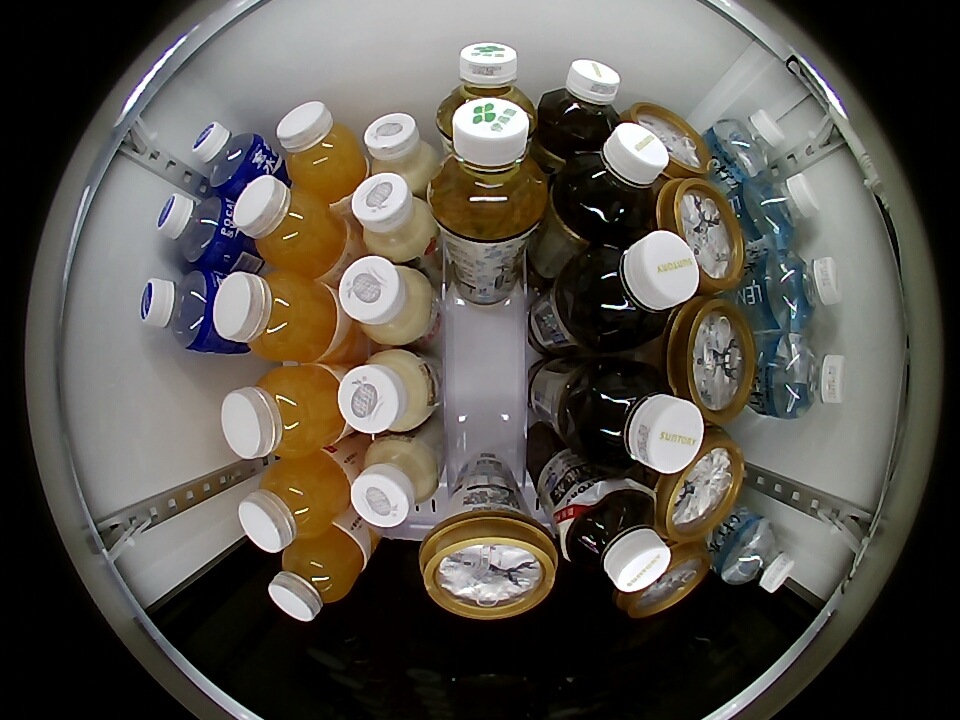baicha: (429, 99, 547, 241), (435, 42, 535, 136)
baokuangli: (140, 269, 222, 352), (156, 192, 236, 267), (193, 122, 271, 195)
lujiaoxiang: (420, 506, 558, 619), (663, 297, 758, 421), (656, 177, 749, 294), (654, 429, 747, 540), (619, 541, 711, 618), (626, 104, 709, 180)
qinningshui: (764, 333, 849, 419), (762, 250, 842, 330), (719, 517, 795, 593), (742, 173, 820, 246), (711, 109, 786, 179)
weic: (221, 364, 344, 459), (213, 270, 340, 362), (233, 175, 348, 276), (238, 453, 351, 553), (268, 526, 366, 622), (275, 102, 368, 199)
weiweidounai: (338, 255, 433, 346), (350, 437, 439, 532), (337, 349, 430, 435), (351, 172, 435, 261), (363, 112, 437, 189)
wulongcha: (573, 230, 698, 346), (581, 364, 702, 475), (559, 481, 670, 593), (561, 122, 670, 229), (541, 59, 622, 143)
